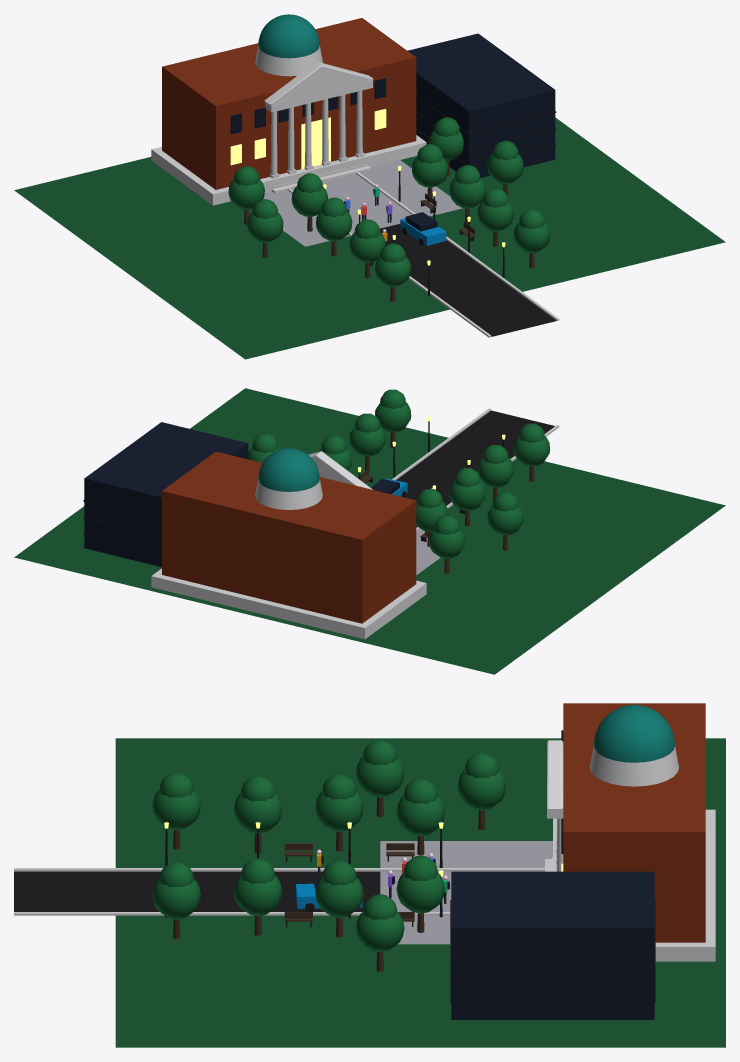
File: campus.glb
The picture shows the model from 3 angles, top to bottom: view 1: azimuth 30°, elevation 25°; view 2: azimuth 150°, elevation 25°; view 3: azimuth 270°, elevation 25°; orthographic projection. The views are drawn at different scales.
Parts seen in each view (by area): view 1: CampusEnvironment; view 2: CampusEnvironment; view 3: CampusEnvironment.
Part boxes in pixels (x1=…): CampusEnvironment: x1=14, y1=14, x2=725, y2=359; CampusEnvironment: x1=14, y1=388, x2=725, y2=674; CampusEnvironment: x1=14, y1=703, x2=725, y2=1047.
Size of the model in its own units: 36 by 10 by 35.
